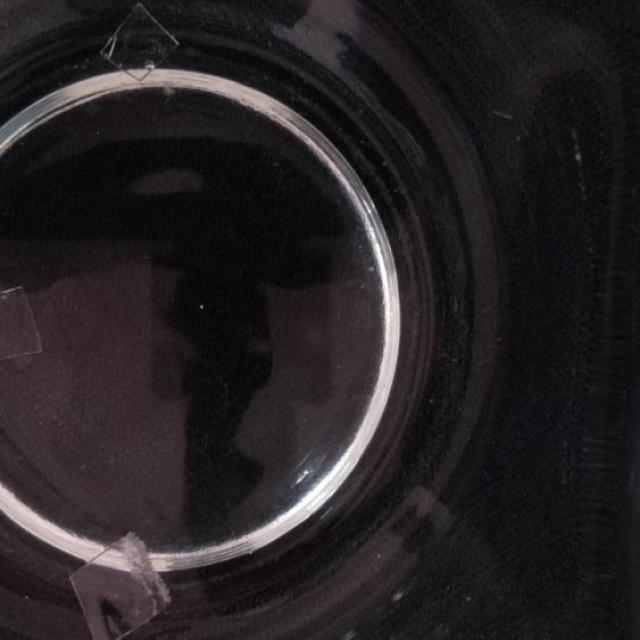fiber: (63, 527, 175, 639), (90, 4, 191, 90), (0, 284, 47, 371)
